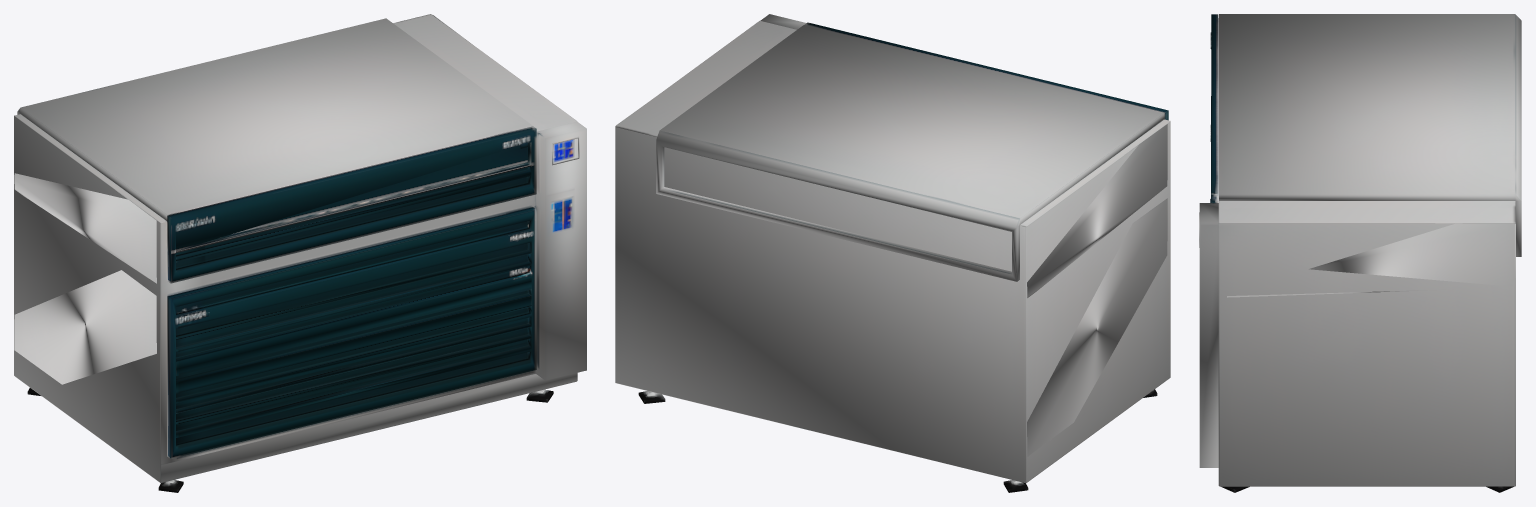
Rendered from Mechanism2.glb.
3 views of the same model, side by side, from view 1: azimuth 30°, elevation 25°; view 2: azimuth 150°, elevation 25°; view 3: azimuth 270°, elevation 25° (orthographic). The views are drawn at different scales.
Parts seen in each view (by area): view 1: texture_pbr_v128.001; view 2: texture_pbr_v128.001; view 3: texture_pbr_v128.001.
Part boxes in pixels (left/top/right/bottom): texture_pbr_v128.001: left=14, top=14, right=586, bottom=492; texture_pbr_v128.001: left=615, top=14, right=1170, bottom=492; texture_pbr_v128.001: left=1199, top=14, right=1521, bottom=492.
Bounding box in the file's own units: 0.8941 × 0.5751 × 0.5911.
1 material, 1 textured.
